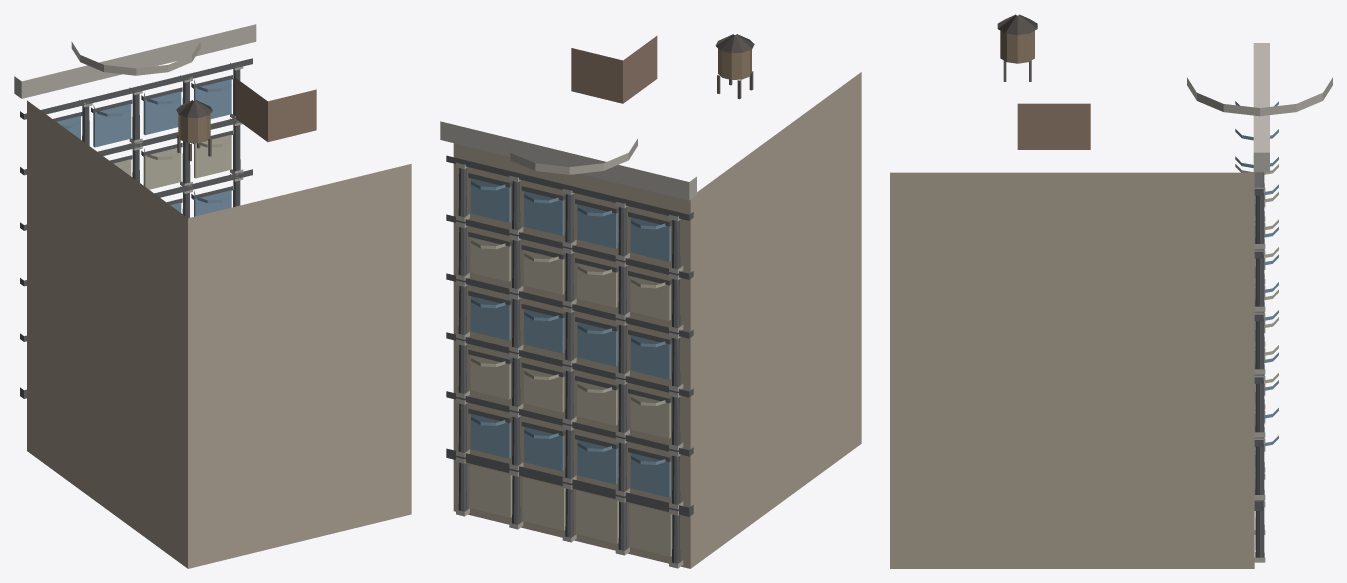
The model's file is building_castiron.glb.
3 views of the same model, side by side, from view 1: azimuth 30°, elevation 25°; view 2: azimuth 150°, elevation 25°; view 3: azimuth 270°, elevation 25° (orthographic). The views are drawn at different scales.
Parts seen in each view (by area): view 1: Mesh; view 2: Mesh; view 3: Mesh.
Boxes of the visible parts, x1,y1,x2,y2 form: Mesh: (14,24,411,568); Mesh: (440,34,861,568); Mesh: (890,14,1332,568).
Size of the model in its own units: 16.8 by 28.2 by 24.3.
